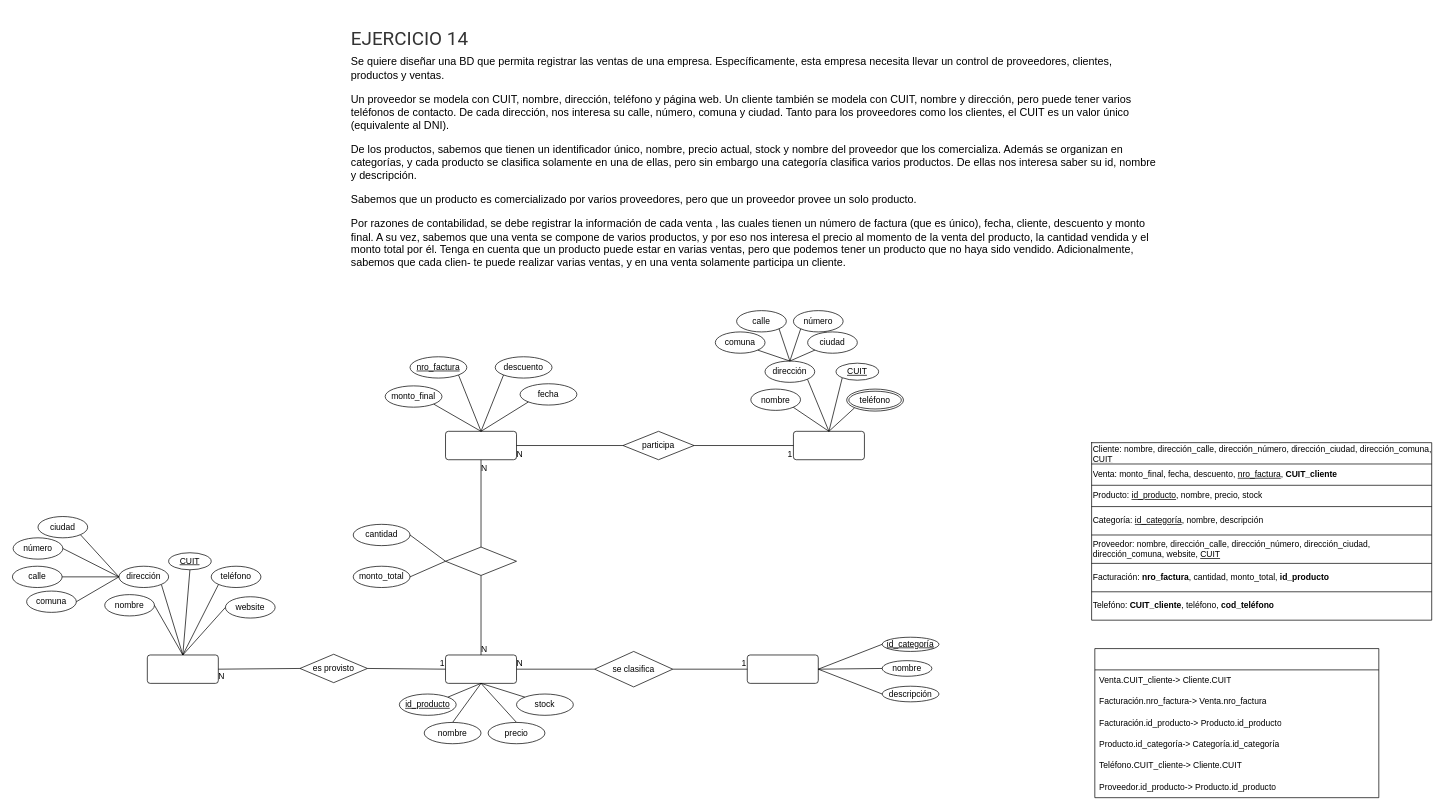
This 1444x810 diagram has some shape labels left out. The box of each missing label's shape, as (x1, y1, x2, y2) in pixels:
Categoría: (747, 654, 818, 683)
Cliente: (793, 431, 864, 460)
Lista FK: (1094, 648, 1379, 798)
Producto: (445, 654, 517, 683)
Proveedor: (147, 654, 218, 683)
puede estar: (445, 546, 517, 575)
Venta: (445, 431, 517, 460)
